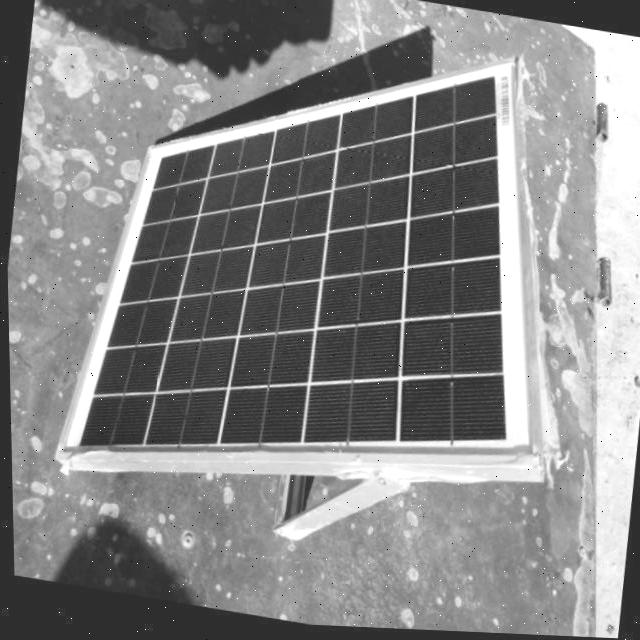Normal Solar Panel: (51, 0, 586, 535)
